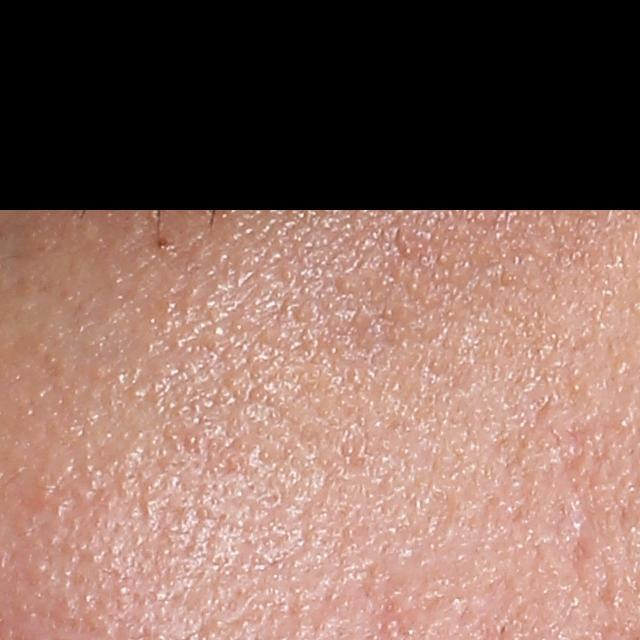nevus: (152, 233, 177, 258)
